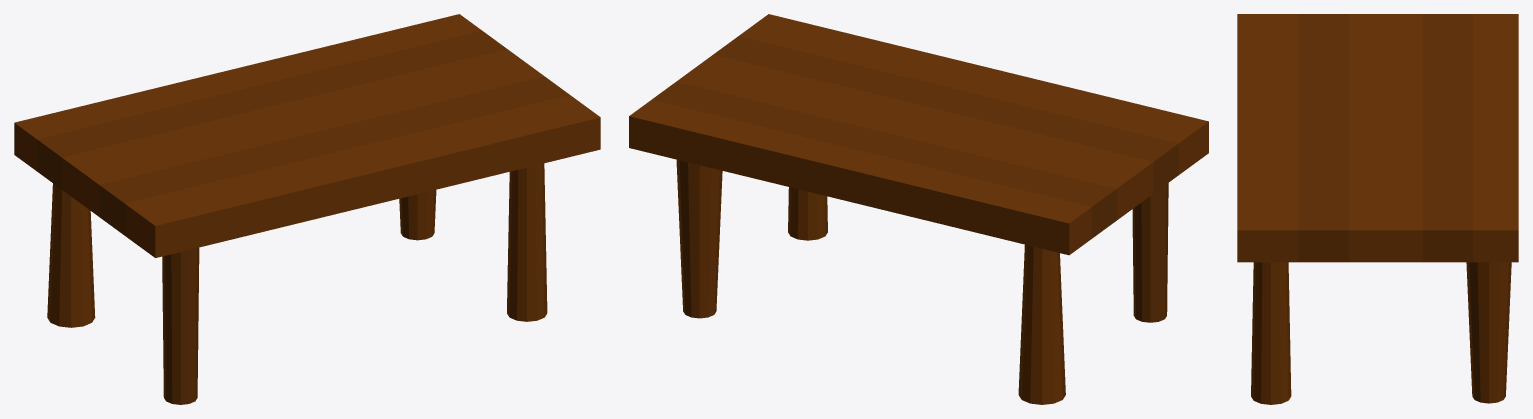
Rendered from table.fbx.
3 renders of one model, left to right at view 1: azimuth 30°, elevation 25°; view 2: azimuth 150°, elevation 25°; view 3: azimuth 270°, elevation 25°, orthographic.
Parts seen in each view (by area): view 1: Cylinder; view 2: Cylinder; view 3: Cylinder.
Part boxes in pixels (x1,y1,x2,y2): Cylinder: (14,14,600,404); Cylinder: (629,14,1208,404); Cylinder: (1237,14,1518,404).
Size of the model in its own units: 606 by 253 by 333.
